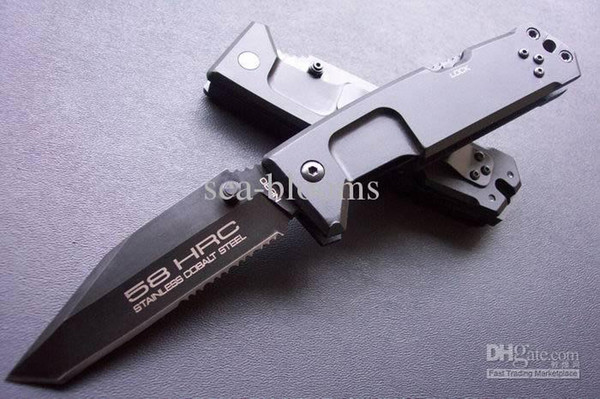knife: (1, 157, 331, 399)
